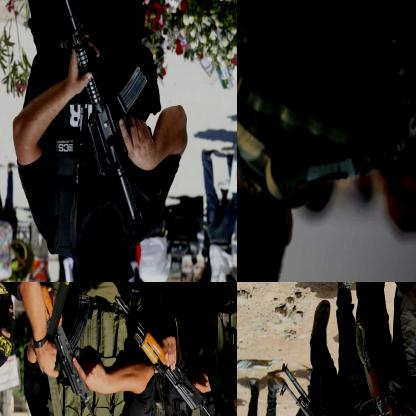rifle: (53, 0, 162, 234), (13, 282, 123, 415), (115, 291, 220, 415), (349, 312, 411, 415), (273, 350, 347, 415)
